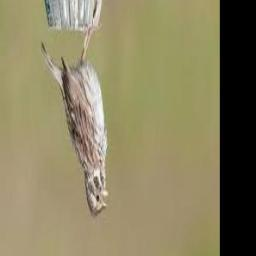Sparrow: (41, 29, 110, 218)
